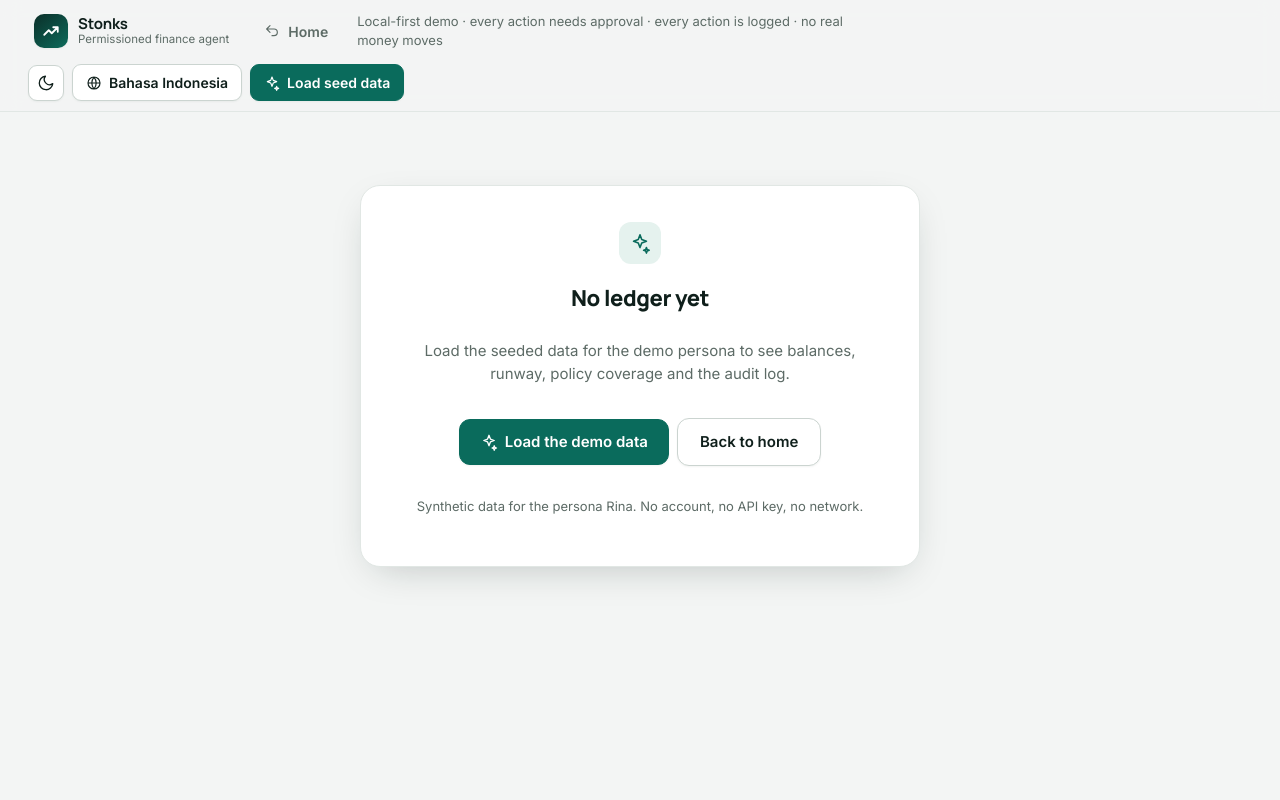
Test case: home page and navigation › keeps the section links inside the demo route
The width and height of the screenshot is (1280, 800).
What coordinates should you click on to do the following:
click the button with test id "load-seed"
I would click on:
 (327, 82)
Its box is [250, 64, 404, 101].
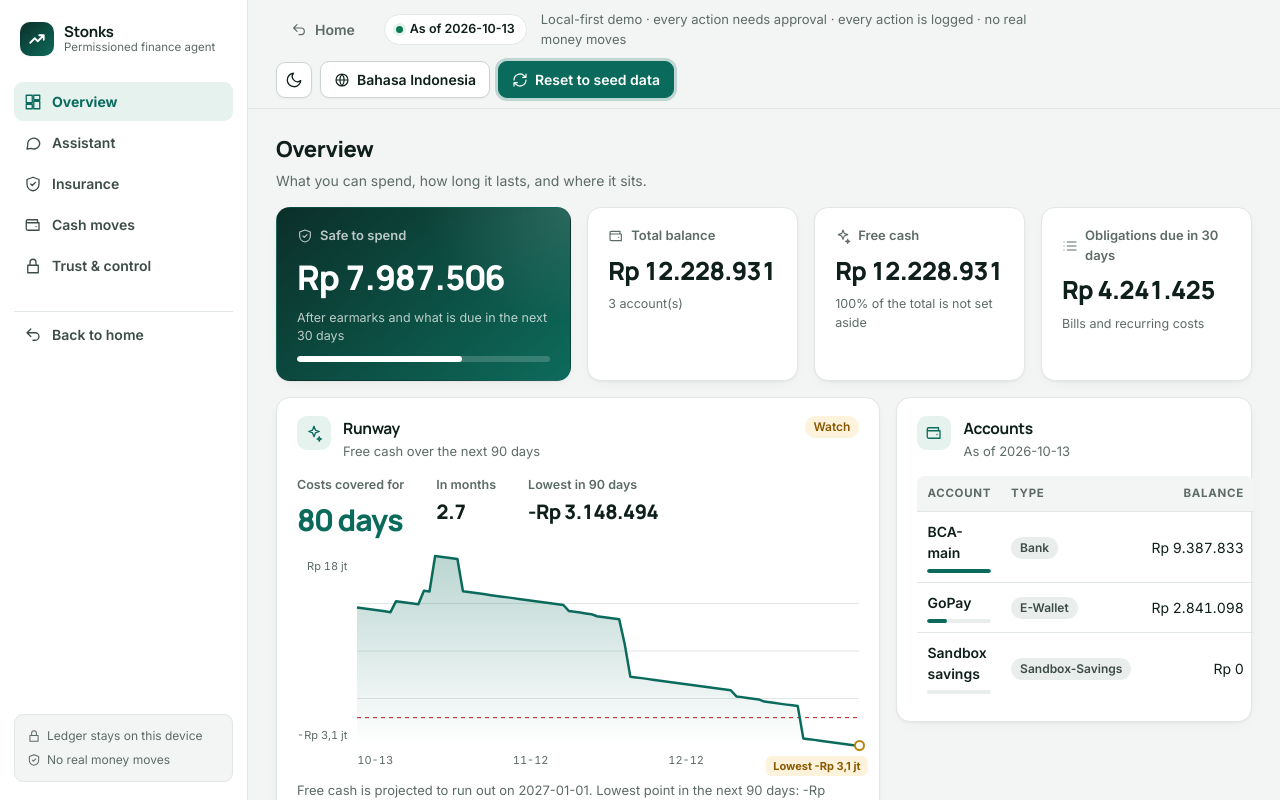
Expected: the text "Rp 7.987.506" is shown, [297, 254, 505, 300]
